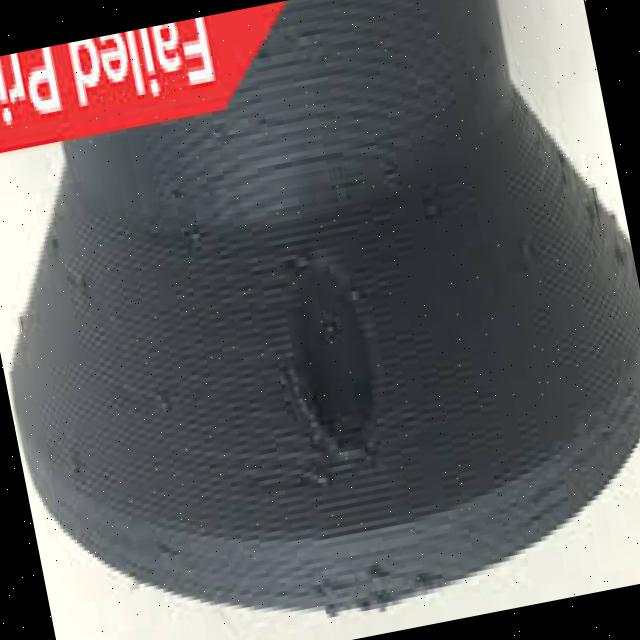blobs: (303, 542, 447, 625), (562, 182, 638, 286), (31, 256, 92, 336), (280, 430, 338, 508), (160, 198, 211, 274), (411, 172, 455, 241), (58, 436, 99, 509), (133, 362, 184, 419), (501, 228, 548, 285), (154, 538, 192, 574)
